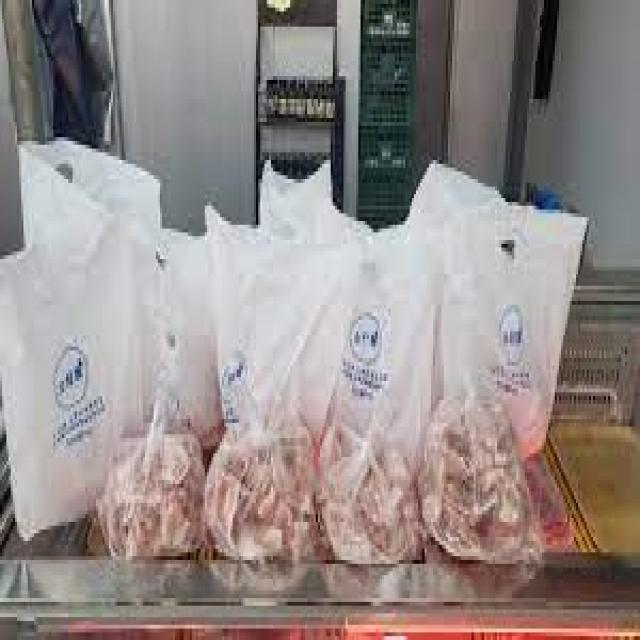pork: (96, 371, 555, 588)
